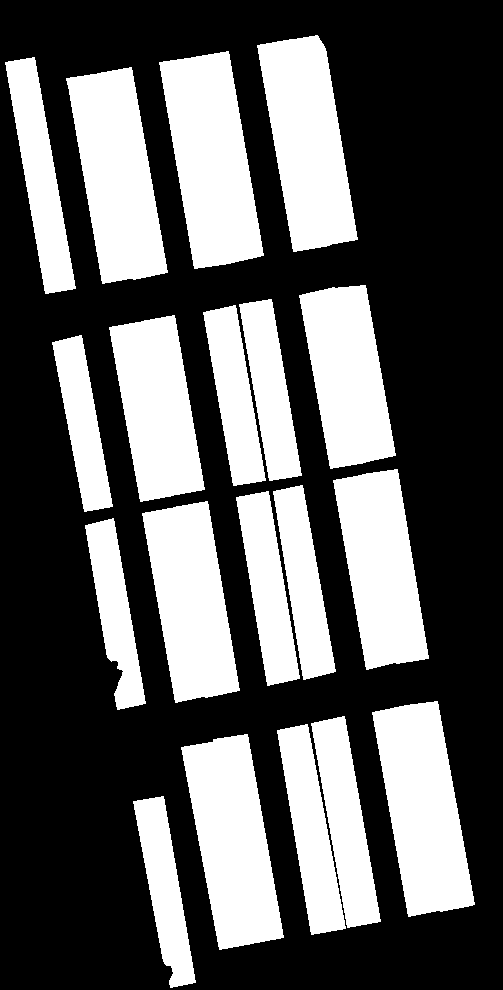parkingspot: (5, 57, 75, 293), (257, 39, 329, 251), (192, 51, 263, 263), (372, 705, 443, 916), (159, 57, 229, 268), (181, 741, 252, 949), (213, 734, 283, 943), (98, 67, 167, 279), (311, 716, 380, 927), (66, 73, 135, 283), (288, 35, 357, 245), (405, 701, 474, 911), (277, 724, 345, 934), (173, 501, 239, 697), (333, 474, 399, 669), (362, 469, 428, 663), (142, 507, 207, 702), (236, 491, 299, 685), (273, 485, 335, 679), (299, 287, 365, 468), (133, 796, 195, 987), (109, 321, 173, 501), (85, 518, 145, 709), (141, 315, 204, 495), (239, 299, 301, 480), (203, 305, 265, 485), (332, 285, 395, 462), (52, 335, 112, 511)
